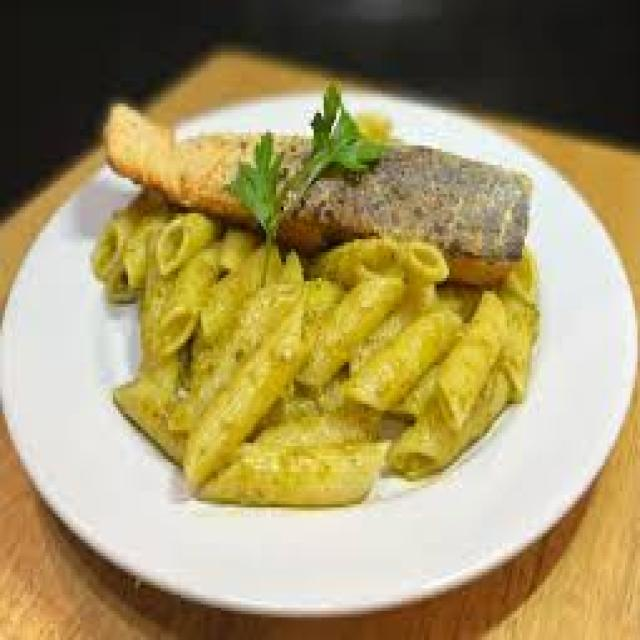pasta: (154, 100, 514, 484)
